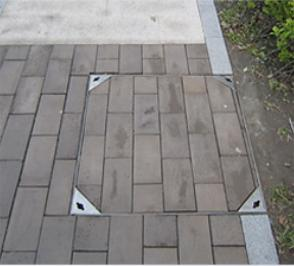wellcover: (69, 56, 275, 229)
